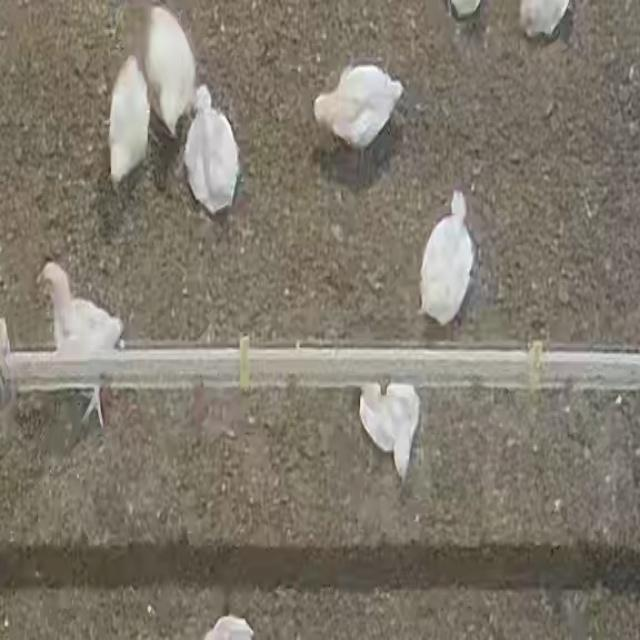chicken: (34, 259, 127, 432), (416, 187, 480, 331), (306, 63, 406, 154), (179, 84, 243, 218), (145, 5, 197, 136), (104, 48, 152, 188)
